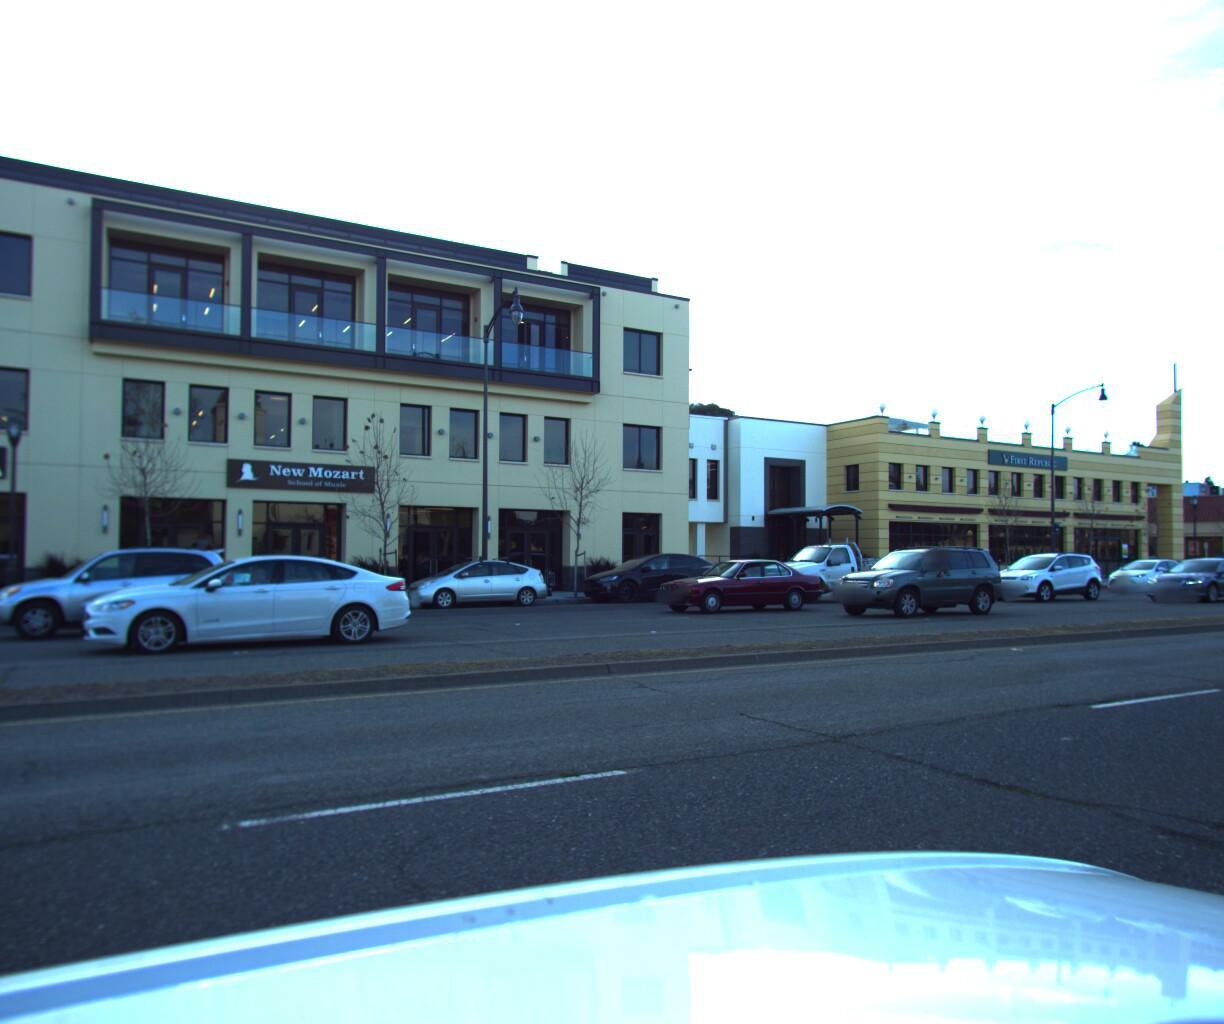car: (74, 551, 421, 664), (0, 539, 271, 648), (821, 542, 1014, 619), (645, 554, 827, 617), (745, 538, 920, 601), (393, 552, 551, 609), (571, 547, 731, 601), (980, 549, 1108, 600), (1133, 549, 1224, 603), (1094, 554, 1194, 588), (0, 557, 5, 633)
